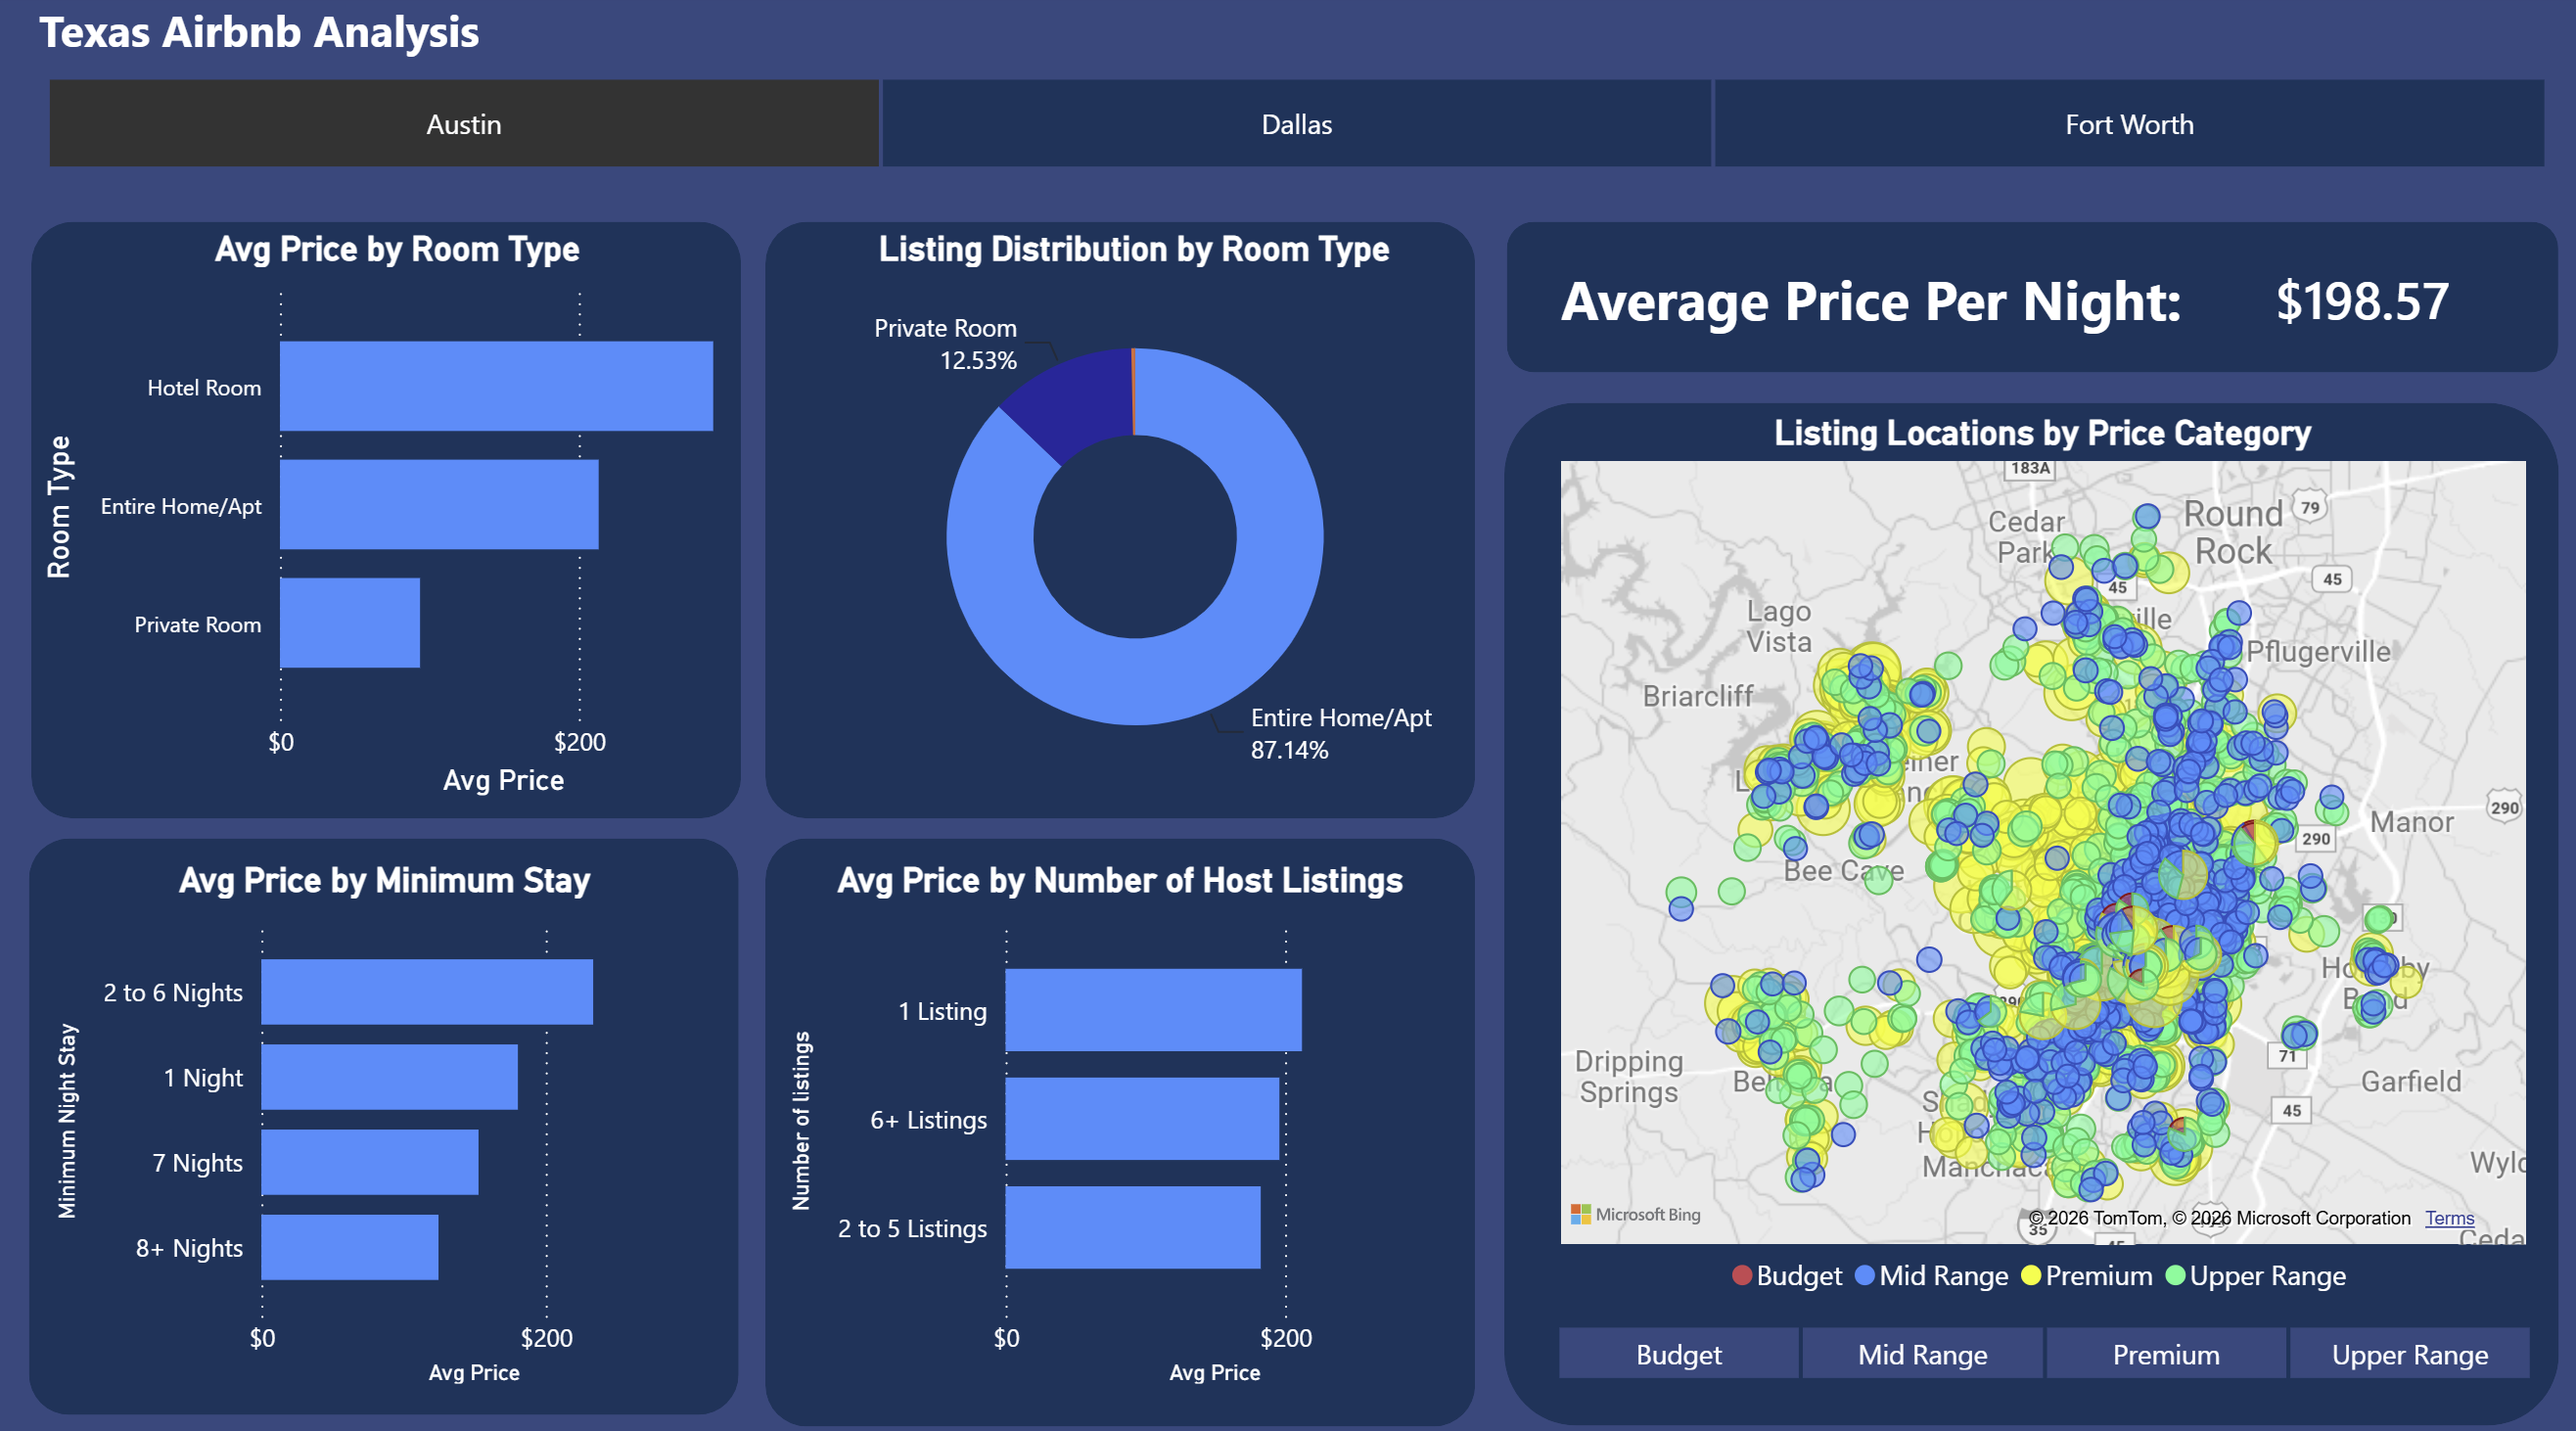

This screenshot's page, from the dashboard's own definition file:
{"tool":"powerbi","page":{"name":"Page 1","canvas":[1280,720],"ordinal":0},"visuals":[{"type":"shape","box":[744.3,114.3,518.6,74.3],"z":0},{"type":"shape","box":[742.9,204.3,520,504.3],"z":1000},{"type":"shape","box":[378.6,114.3,350,294.3],"z":2000},{"type":"shape","box":[378.6,418.6,350,290],"z":3000},{"type":"shape","box":[15.7,418.6,350,284.3],"z":4000},{"type":"shape","box":[17.1,114.3,350,294.3],"z":5000},{"type":"slicer","fields":{"Values":["public listings.city"]},"box":[0,37.1,1280,57.1],"z":6000},{"type":"cardVisual","title":"Avg Nightly Price","fields":{"Data":["Avg(public listings.price)"]},"box":[1094.3,114.3,145.7,74.3],"z":7000},{"type":"clusteredBarChart","title":"Avg Price by Room Type","fields":{"Category":["public listings.room_type"],"Y":["Avg(public listings.price)"]},"box":[17.1,118.6,361.4,284.3],"z":8000},{"type":"donutChart","title":"Listing Distribution by Room Type","fields":{"Category":["public listings.room_type"],"Y":["CountNonNull(public listings.price)"]},"box":[378.6,118.6,364.3,284.3],"z":9000},{"type":"map","title":"Listing Locations by Price Category","fields":{"Y":["public listings.latitude"],"X":["public listings.longitude"],"Size":["Avg(public listings.price)"],"Series":["public listings.price_category"]},"box":[765.7,208.6,485.7,444.3],"z":10000},{"type":"slicer","fields":{"Values":["public listings.price_category"]},"box":[744.3,652.9,528.6,38.6],"z":11000},{"type":"clusteredBarChart","title":"Avg Price by Minimum Stay","fields":{"Category":["public listings.minimum_stay_category"],"Y":["Avg(public listings.price)"]},"box":[24.3,430,334.3,262.9],"z":12000},{"type":"clusteredBarChart","title":"Avg Price by Number of Host Listings","fields":{"Category":["public listings.host_category"],"Y":["Avg(public listings.price)"]},"box":[385.7,430,335.7,262.9],"z":13000},{"type":"textbox","box":[15.7,0,315.7,40],"z":13001},{"type":"textbox","box":[765.7,128.6,344.3,47.1],"z":13002}]}

Visuals, with their boxes in screenshot pixels (x1, y1, x2, y2), scaled from the page's 1280x720 canvas onto the 2576x1431 screenshot:
shape: 1497:227:2542:375
shape: 1495:406:2542:1408
shape: 761:227:1466:812
shape: 761:832:1466:1408
shape: 31:832:736:1397
shape: 34:227:739:812
slicer - public listings.city: 0:73:2575:187
"Avg Nightly Price" cardVisual: 2202:227:2496:375
"Avg Price by Room Type" clusteredBarChart: 34:236:761:801
"Listing Distribution by Room Type" donutChart: 761:236:1495:801
"Listing Locations by Price Category" map: 1541:415:2518:1298
slicer - public listings.price_category: 1497:1298:2561:1374
"Avg Price by Minimum Stay" clusteredBarChart: 49:854:721:1377
"Avg Price by Number of Host Listings" clusteredBarChart: 776:854:1451:1377
textbox: 31:0:667:79
textbox: 1541:255:2233:349
